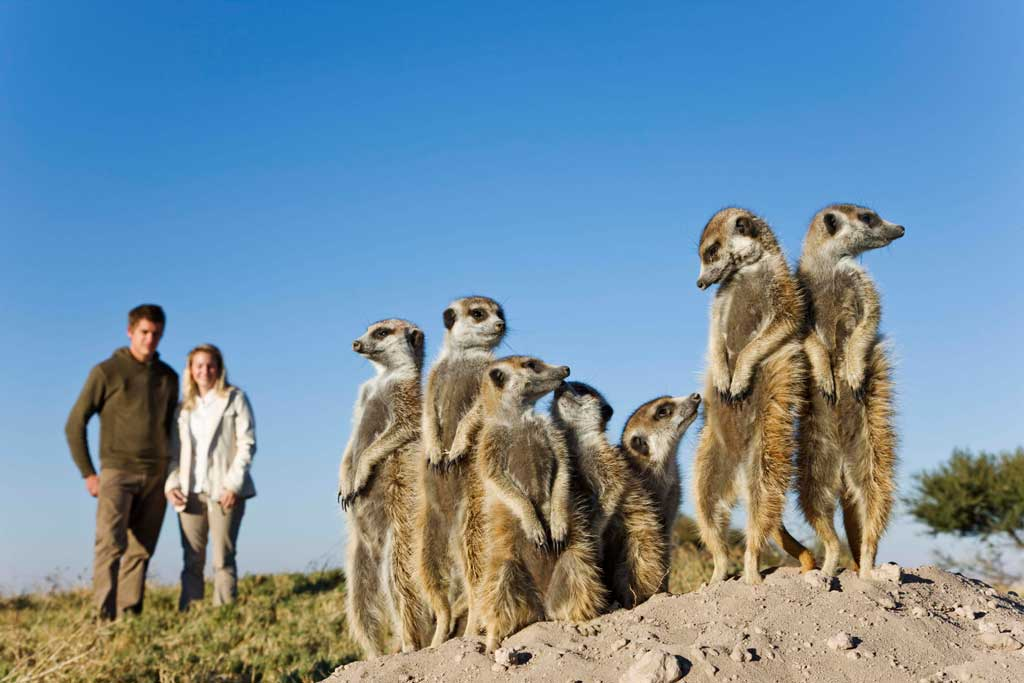meerkat: (784, 172, 921, 586), (448, 347, 637, 643)
